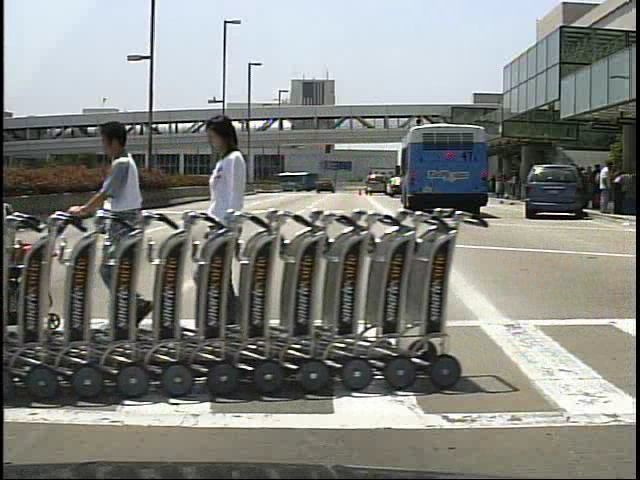person: (194, 113, 278, 350), (78, 120, 160, 339), (597, 160, 618, 215), (589, 162, 605, 215)
